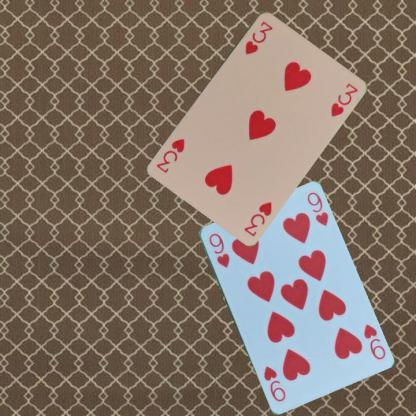3h: (241, 198, 273, 238), (242, 18, 274, 55)
9h: (360, 321, 386, 361), (206, 230, 230, 269)
